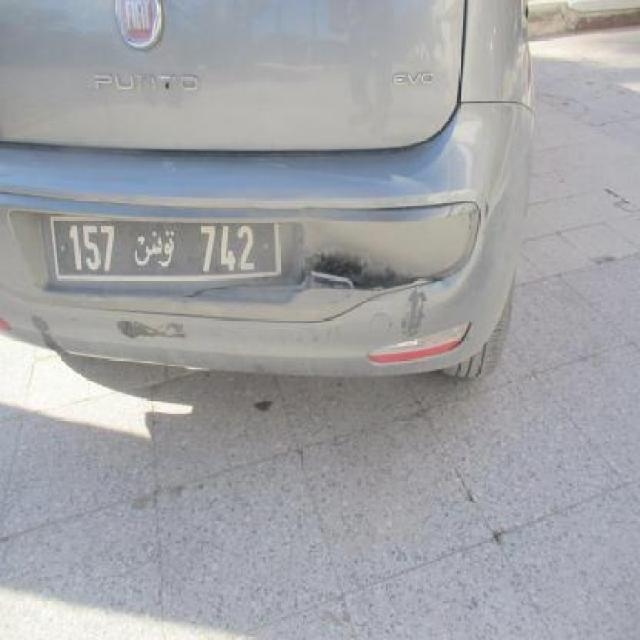car damage: (300, 208, 470, 318), (186, 274, 300, 300)
